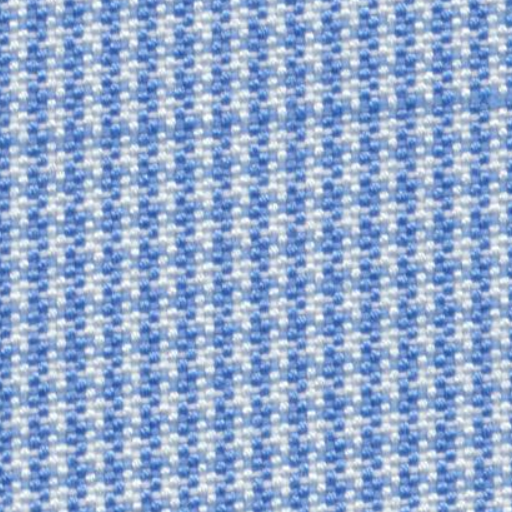TuoSha: (20, 68, 488, 170)
